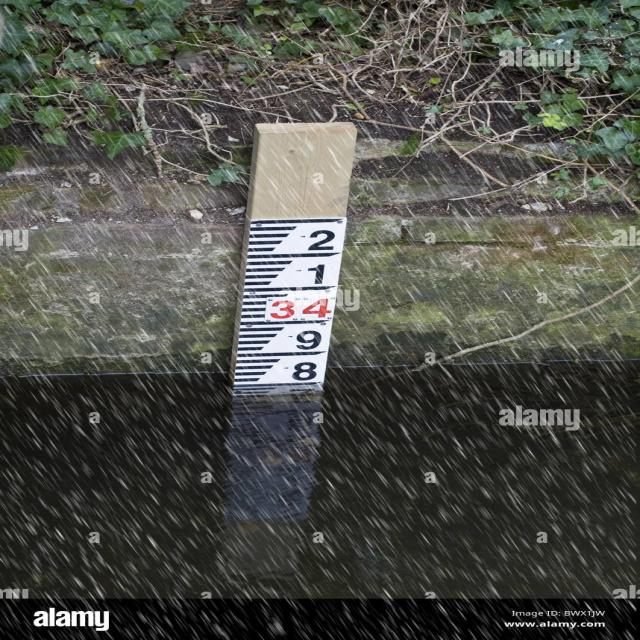ruler: (226, 217, 363, 390)
value: (263, 294, 337, 323), (297, 258, 338, 290), (302, 224, 340, 255), (285, 358, 328, 385), (287, 328, 329, 353)
